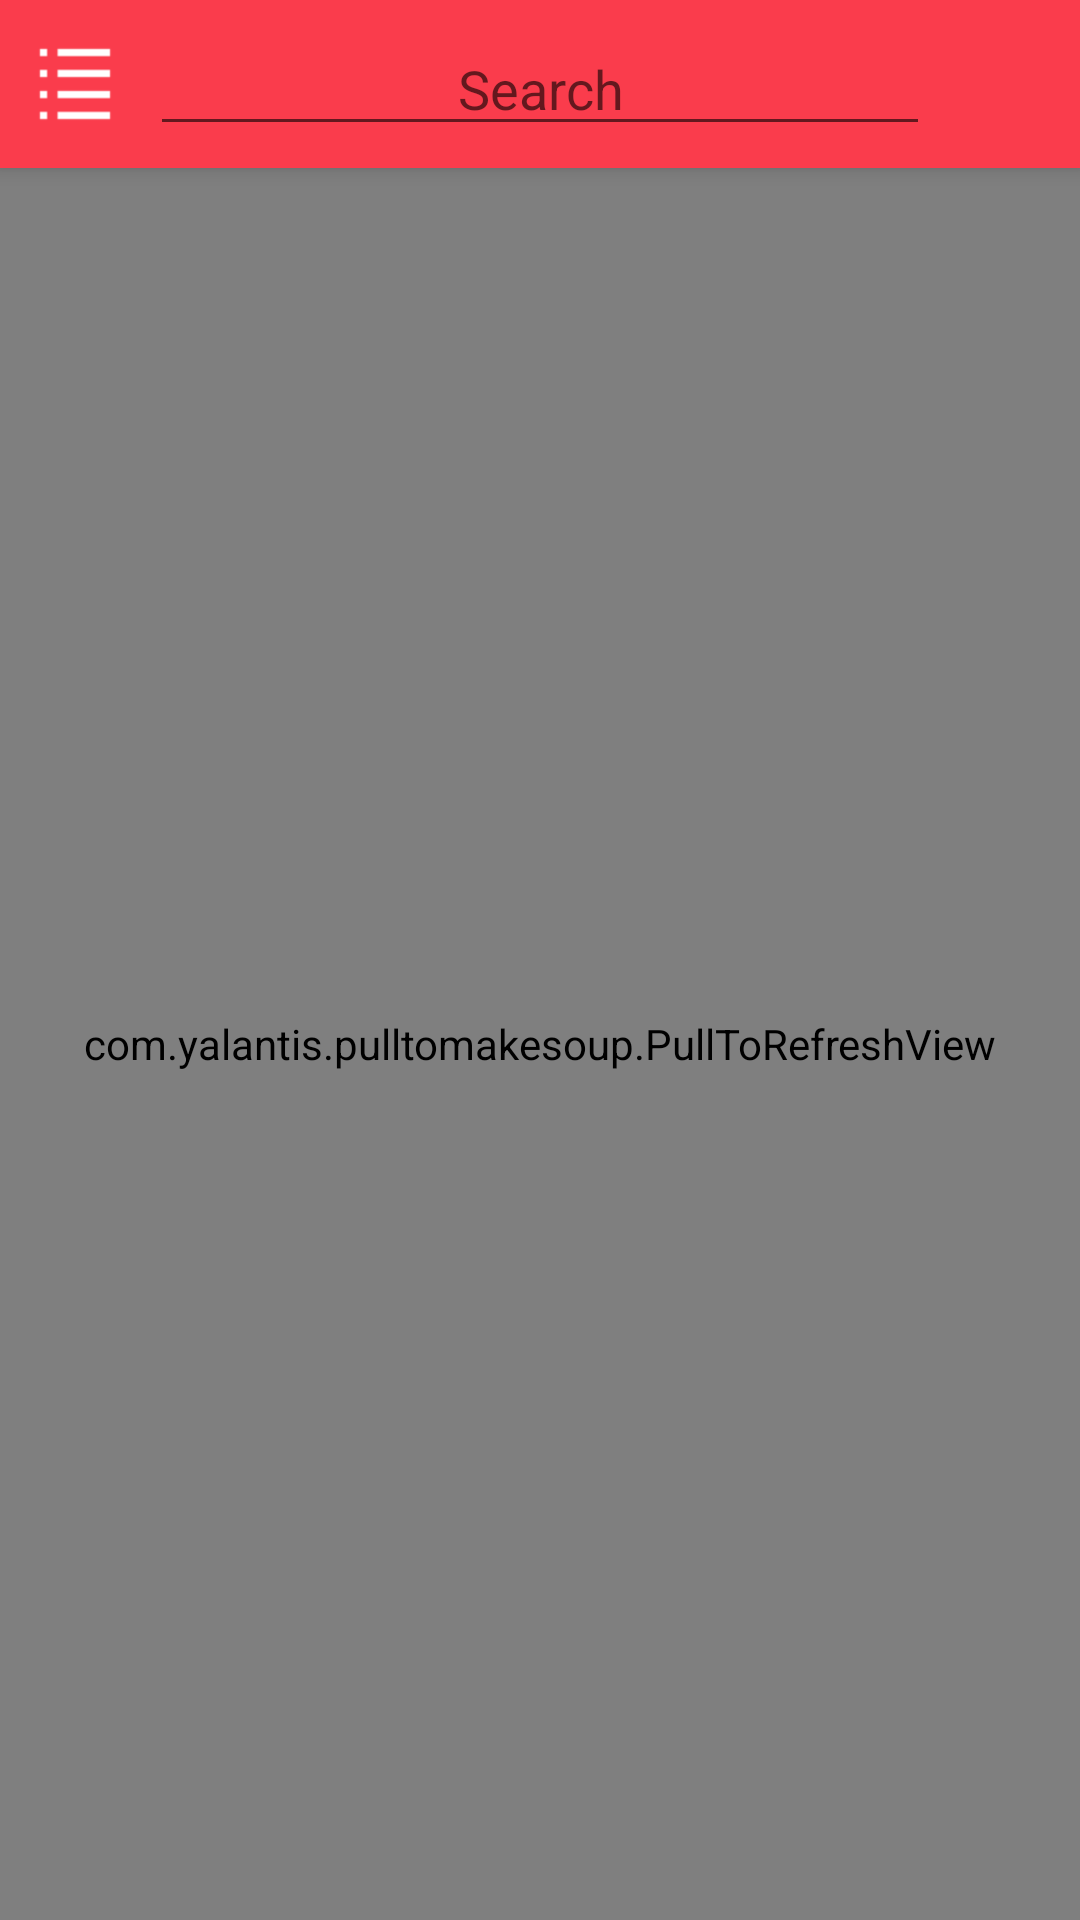

Named icons in this screenshot (1080w x 1920h) and their bounding boxes, (x1,y1,x2,y2):
list: (39,48,111,120)
